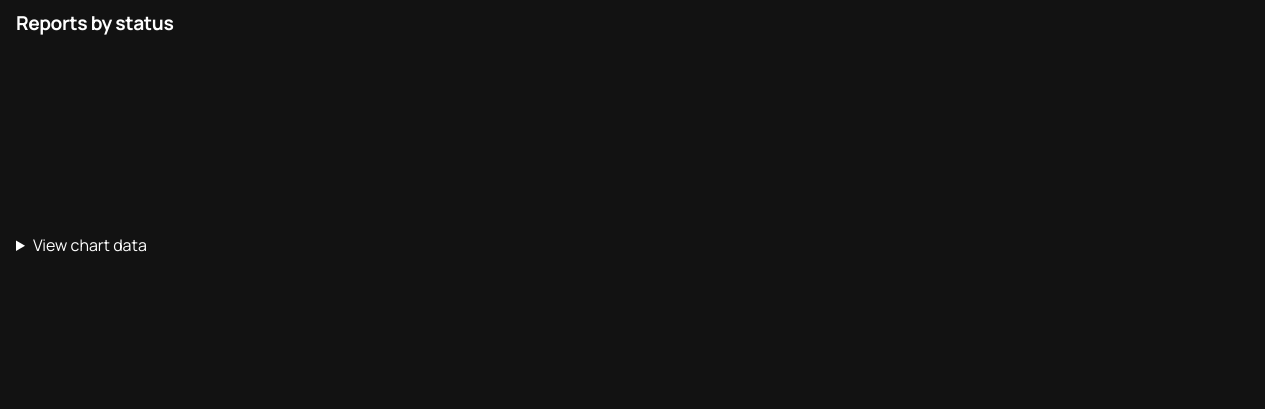
Test: hands server counts to Chart.js and includes equivalent labeled table data
Click the heading "View chart data".
click(81, 245)  # box [16,234,147,256]
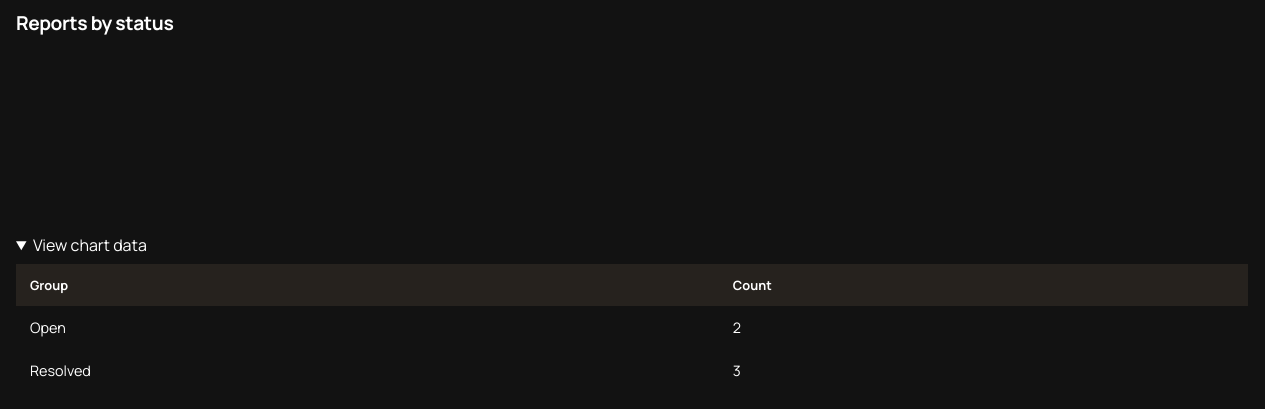
Expected: the row "Resolved 3" is shown, [16,349,1248,392]
